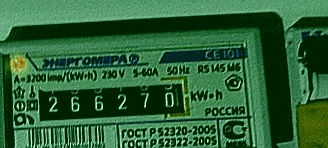0: (162, 87, 174, 108)
2: (45, 91, 60, 113), (115, 90, 128, 110)
6: (68, 92, 81, 113), (92, 91, 105, 111)
7: (138, 88, 151, 108)
screen: (24, 67, 200, 132)
